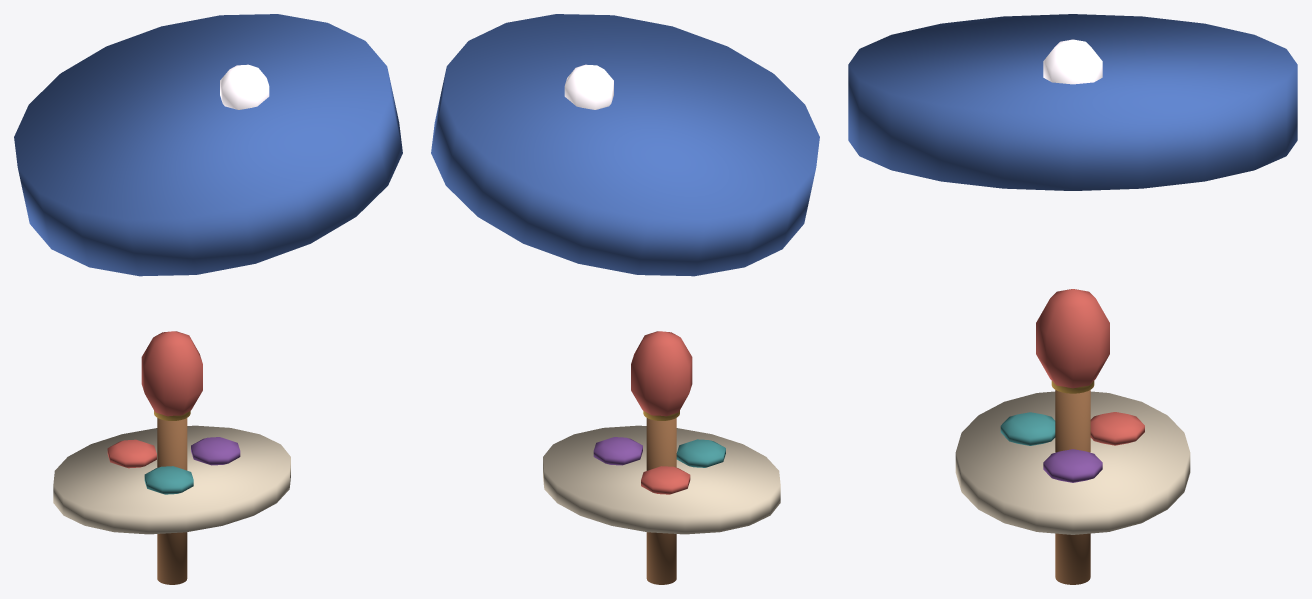
The model's file is opera_painter_outfit.glb.
The picture shows the model from 3 angles, left to right: view 1: azimuth 30°, elevation 25°; view 2: azimuth 150°, elevation 25°; view 3: azimuth 270°, elevation 25°; orthographic projection. The views are drawn at different scales.
Visible parts, largest first — view 1: Beret, Palette, Tip, Brush, BeretPuff, Dab2, Dab0, Dab1; view 2: Beret, Palette, Tip, Brush, BeretPuff, Dab1, Dab0, Dab2; view 3: Beret, Palette, Tip, Brush, BeretPuff, Dab0, Dab2, Dab1.
Part boxes in pixels (bbox=[...]): Beret: bbox=[14, 14, 402, 276]; Palette: bbox=[53, 425, 290, 534]; Tip: bbox=[141, 331, 202, 416]; Brush: bbox=[157, 418, 187, 584]; BeretPuff: bbox=[220, 64, 269, 109]; Dab2: bbox=[144, 466, 193, 494]; Dab0: bbox=[191, 437, 240, 465]; Dab1: bbox=[107, 439, 156, 468]; Beret: bbox=[431, 14, 819, 276]; Palette: bbox=[543, 425, 780, 534]; Tip: bbox=[631, 331, 692, 416]; Brush: bbox=[646, 418, 676, 584]; BeretPuff: bbox=[564, 64, 613, 109]; Dab1: bbox=[641, 466, 690, 494]; Dab0: bbox=[593, 437, 642, 465]; Dab2: bbox=[676, 439, 725, 467]; Beret: bbox=[848, 14, 1297, 190]; Palette: bbox=[955, 391, 1190, 534]; Tip: bbox=[1036, 289, 1109, 388]; Brush: bbox=[1055, 390, 1090, 584]; BeretPuff: bbox=[1043, 39, 1102, 84]; Dab0: bbox=[1043, 449, 1102, 482]; Dab2: bbox=[1000, 412, 1055, 445]; Dab1: bbox=[1090, 412, 1144, 445].
Size of the model in its own units: 2.33 by 3.26 by 2.3.
